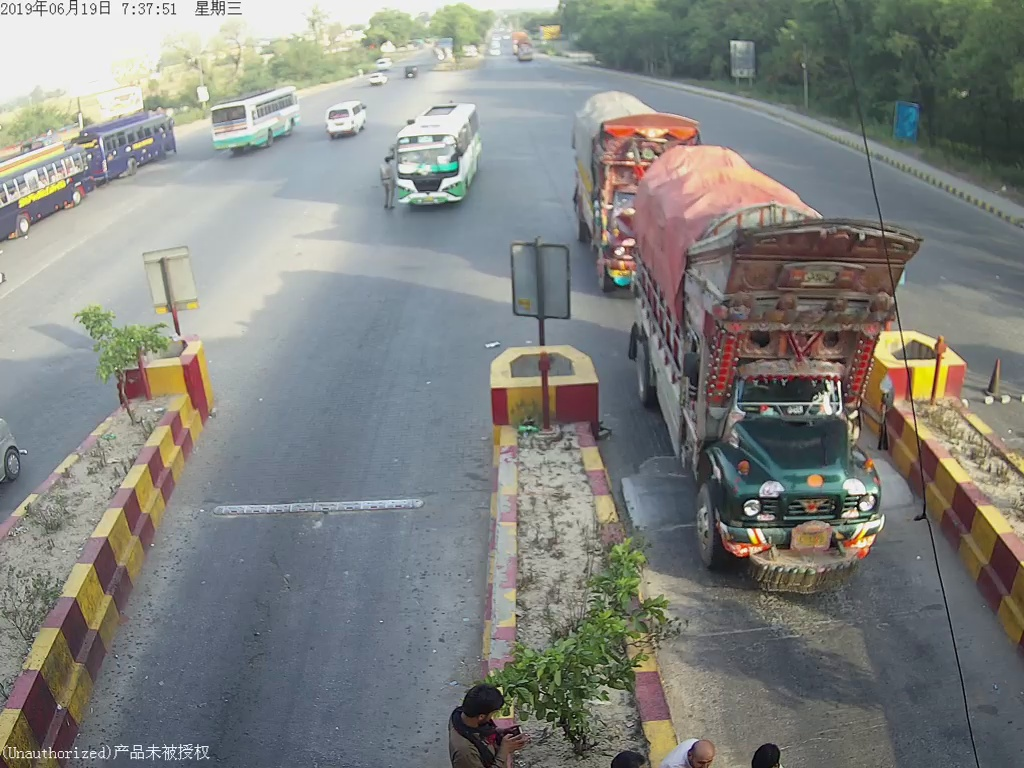Cat-3: (395, 101, 488, 210)
Cat-4: (633, 145, 898, 576), (567, 93, 680, 282)
